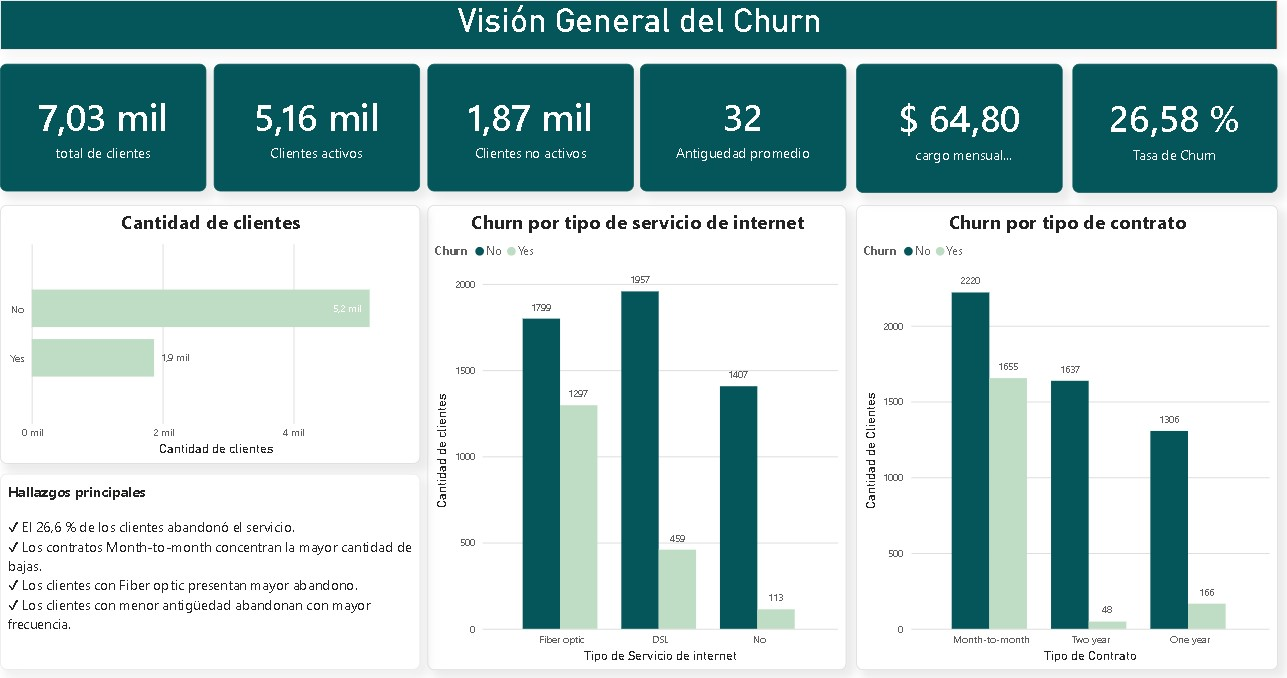

The dashboard page shown, as its layout file describes it:
{"tool":"powerbi","page":{"name":"Página 1","canvas":[1500,790],"ordinal":0},"visuals":[{"type":"cardVisual","fields":{"Data":["customer_churn_clean.total de clientes"]},"box":[0,73.9,239.1,147.8],"z":9001},{"type":"clusteredColumnChart","title":"Churn por tipo de servicio de internet","fields":{"Y":["customer_churn_clean.total de clientes"],"Category":["customer_churn_clean.InternetService"],"Series":["customer_churn_clean.Churn"]},"box":[495.7,237.7,485.5,539.1],"z":9007},{"type":"clusteredColumnChart","title":"Churn por tipo de contrato","fields":{"Y":["customer_churn_clean.total de clientes"],"Series":["customer_churn_clean.Churn"],"Category":["customer_churn_clean.Contract"]},"box":[992.8,237.7,488.4,539.1],"z":9008},{"type":"clusteredBarChart","title":"Cantidad de clientes","fields":{"Category":["customer_churn_clean.Churn"],"Y":["customer_churn_clean.total de clientes"]},"box":[0,237.7,487,300],"z":9009},{"type":"cardVisual","fields":{"Data":["customer_churn_clean.Clientes activos"]},"box":[247.8,73.9,239.1,147.8],"z":9010},{"type":"cardVisual","fields":{"Data":["customer_churn_clean.Clientes no activos"]},"box":[495.7,73.9,239.1,147.8],"z":9011},{"type":"cardVisual","fields":{"Data":["customer_churn_clean.Antiguedad promedio"]},"box":[742,73.9,239.1,147.8],"z":9012},{"type":"cardVisual","fields":{"Data":["customer_churn_clean.cargo mensual promedio"]},"box":[992.8,73.9,239.1,149.3],"z":9013},{"type":"cardVisual","fields":{"Data":["customer_churn_clean.Tasa de Churn"]},"box":[1243.5,73.9,237.7,149.3],"z":9014},{"type":"textbox","box":[0,549.3,487,227.5],"z":9015},{"type":"textbox","title":"Visión General del Churn","box":[0,0,1481.2,58],"z":9016}]}

Visuals, with their boxes in screenshot pixels (x1, y1, x2, y2), scaled from the page's 1500x790 canvas onto the 1287x678 screenshot:
cardVisual - customer_churn_clean.total de clientes: pyautogui.locateOnScreen(0, 63, 205, 190)
"Churn por tipo de servicio de internet" clusteredColumnChart: pyautogui.locateOnScreen(425, 204, 842, 667)
"Churn por tipo de contrato" clusteredColumnChart: pyautogui.locateOnScreen(852, 204, 1271, 667)
"Cantidad de clientes" clusteredBarChart: pyautogui.locateOnScreen(0, 204, 418, 461)
cardVisual - customer_churn_clean.Clientes activos: pyautogui.locateOnScreen(213, 63, 418, 190)
cardVisual - customer_churn_clean.Clientes no activos: pyautogui.locateOnScreen(425, 63, 630, 190)
cardVisual - customer_churn_clean.Antiguedad promedio: pyautogui.locateOnScreen(637, 63, 842, 190)
cardVisual - customer_churn_clean.cargo mensual promedio: pyautogui.locateOnScreen(852, 63, 1057, 192)
cardVisual - customer_churn_clean.Tasa de Churn: pyautogui.locateOnScreen(1067, 63, 1271, 192)
textbox: pyautogui.locateOnScreen(0, 471, 418, 667)
"Visión General del Churn" textbox: pyautogui.locateOnScreen(0, 0, 1271, 50)
